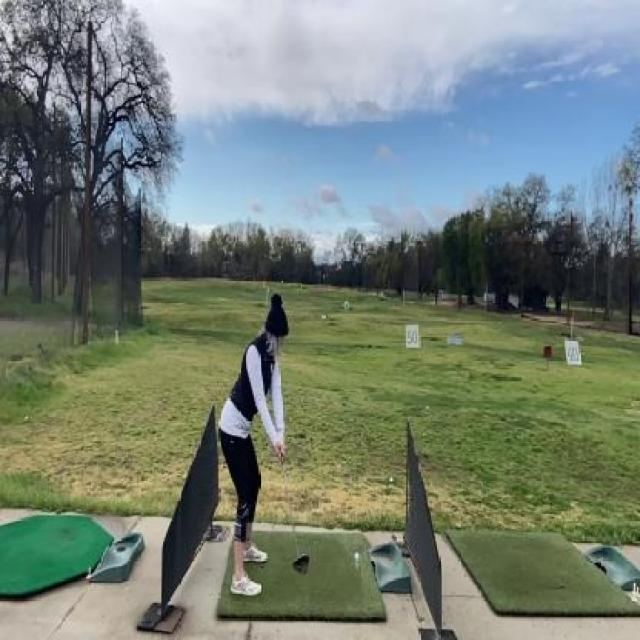club head: (292, 551, 312, 578)
